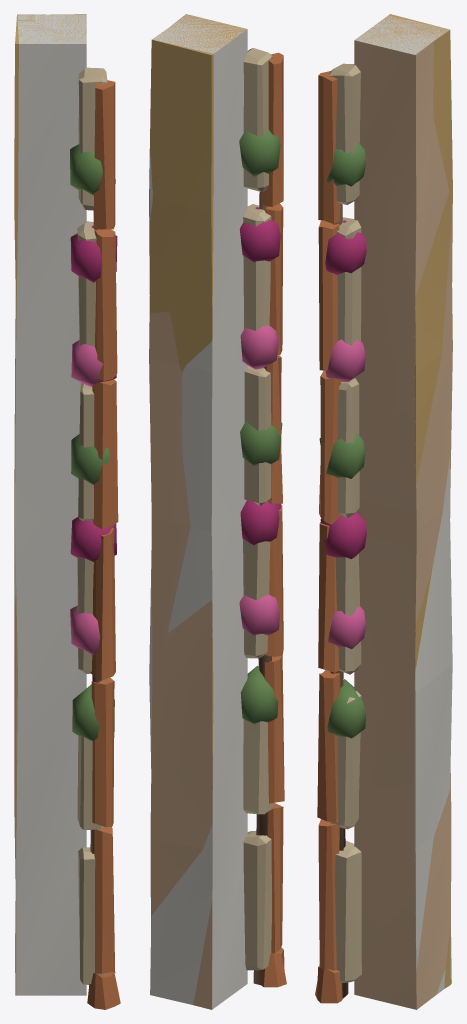
The model's file is corner.inner.glb.
The picture shows the model from 3 angles, left to right: view 1: azimuth 90°, elevation 25°; view 2: azimuth 150°, elevation 25°; view 3: azimuth 330°, elevation 25°; orthographic projection.
Visible parts, largest first — view 1: corner.inner.v0.mesh, corner.inner.v1.mesh, corner.inner.v2.mesh; view 2: corner.inner.v0.mesh, corner.inner.v2.mesh, corner.inner.v1.mesh; view 3: corner.inner.v2.mesh, corner.inner.v0.mesh, corner.inner.v1.mesh.
Part boxes in pixels (box(x1,y1,x2,y2)): corner.inner.v0.mesh: box(14, 14, 120, 1009); corner.inner.v1.mesh: box(14, 14, 107, 984); corner.inner.v2.mesh: box(14, 14, 117, 995); corner.inner.v0.mesh: box(149, 14, 286, 1009); corner.inner.v2.mesh: box(149, 14, 282, 1009); corner.inner.v1.mesh: box(149, 14, 273, 970); corner.inner.v2.mesh: box(319, 15, 452, 1009); corner.inner.v0.mesh: box(315, 15, 452, 1003); corner.inner.v1.mesh: box(329, 14, 452, 988).
Bounding box in the file's own units: 0.3047 × 3.01 × 0.3048.
